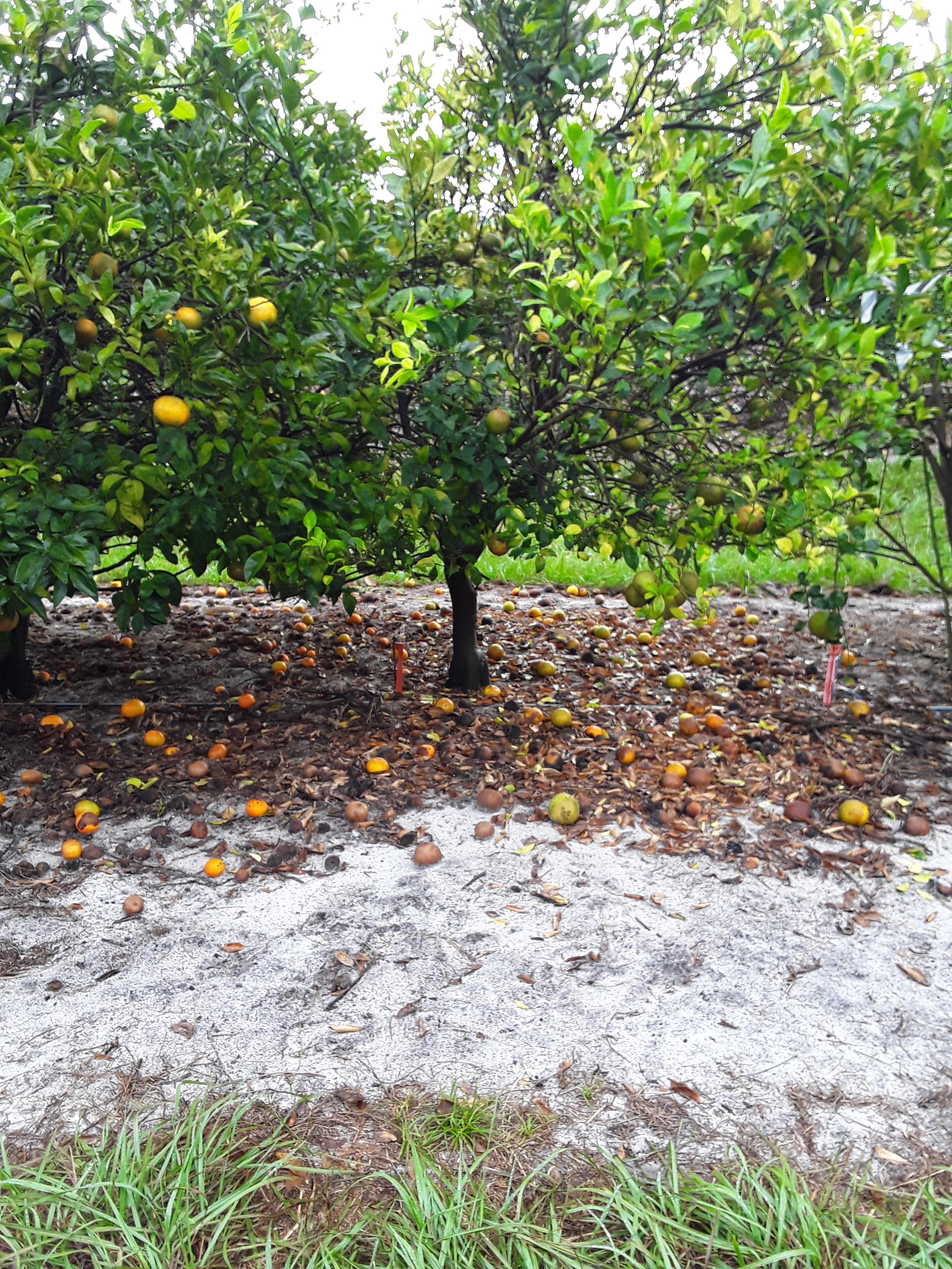fruit_on_ground: (149, 392, 192, 430), (242, 292, 282, 331), (148, 310, 185, 347), (85, 100, 123, 135), (84, 248, 122, 283), (806, 607, 844, 641), (693, 472, 730, 506), (68, 314, 101, 349), (731, 502, 767, 534), (171, 301, 205, 334), (483, 406, 513, 436), (658, 577, 687, 608), (632, 569, 661, 598), (476, 225, 506, 253), (676, 568, 703, 598), (449, 237, 477, 265), (0, 601, 21, 635), (530, 322, 556, 348), (485, 530, 511, 556), (616, 430, 642, 454), (628, 466, 653, 489), (599, 404, 625, 425), (632, 414, 657, 434), (226, 559, 247, 580)
fruit_on_tree: (266, 1147, 309, 1190), (547, 792, 582, 825), (837, 796, 872, 827), (783, 798, 814, 824), (902, 813, 933, 839), (413, 841, 443, 867), (475, 787, 504, 810), (343, 799, 369, 824), (75, 809, 102, 833), (119, 696, 146, 720), (841, 767, 867, 791), (74, 799, 101, 822), (687, 766, 712, 789), (548, 706, 573, 729), (122, 893, 145, 917), (365, 755, 391, 776), (682, 696, 710, 715), (60, 837, 83, 860), (245, 796, 269, 818), (821, 760, 846, 781), (882, 778, 908, 798), (677, 714, 700, 736), (473, 818, 496, 840), (38, 712, 66, 730), (846, 697, 870, 718), (82, 841, 107, 861), (203, 856, 225, 878), (614, 743, 637, 764), (186, 757, 209, 778), (664, 670, 688, 690), (532, 658, 557, 677), (143, 728, 166, 748), (662, 766, 686, 785), (688, 648, 712, 667), (19, 766, 43, 785), (456, 708, 478, 728), (793, 747, 815, 767), (665, 759, 688, 778), (434, 694, 457, 713), (425, 703, 449, 721), (584, 724, 608, 741), (523, 705, 544, 724), (207, 741, 228, 760), (413, 741, 435, 759), (683, 798, 703, 817), (150, 823, 172, 840), (838, 649, 857, 668), (474, 743, 494, 761), (236, 691, 256, 709), (656, 808, 677, 825), (436, 740, 457, 757), (703, 712, 724, 729), (694, 614, 716, 630), (275, 839, 297, 855), (406, 793, 425, 811), (592, 623, 611, 641), (191, 820, 210, 838), (486, 641, 505, 659), (92, 598, 112, 615), (74, 762, 94, 779), (481, 682, 501, 699), (286, 817, 304, 835), (210, 773, 230, 789), (636, 629, 655, 645), (258, 638, 276, 654), (300, 763, 319, 778), (733, 654, 752, 669), (270, 657, 289, 672), (392, 645, 409, 661), (189, 801, 206, 817), (234, 867, 251, 883), (35, 667, 52, 683), (737, 676, 755, 691), (752, 653, 770, 668), (117, 634, 135, 649), (714, 724, 733, 738), (194, 625, 214, 638), (543, 751, 560, 766), (742, 632, 759, 647), (15, 785, 33, 799), (754, 675, 772, 689), (346, 610, 364, 624), (579, 648, 595, 663), (744, 612, 760, 627), (98, 795, 115, 809), (205, 645, 222, 659), (108, 577, 126, 590), (163, 744, 179, 758), (565, 637, 581, 651), (733, 603, 749, 617), (551, 608, 566, 622), (501, 598, 516, 612), (527, 605, 542, 619), (292, 602, 308, 615), (300, 653, 316, 666), (335, 632, 351, 645), (402, 575, 416, 589), (334, 644, 349, 657), (423, 599, 438, 612), (424, 618, 439, 631), (214, 584, 229, 597), (317, 657, 333, 669), (553, 635, 567, 648), (590, 595, 605, 607), (622, 631, 637, 643), (0, 787, 9, 806), (410, 608, 423, 621), (536, 596, 550, 608), (293, 621, 307, 633), (297, 645, 311, 657), (576, 585, 590, 597), (526, 586, 541, 597), (439, 606, 452, 618), (254, 584, 267, 596), (565, 582, 578, 594), (301, 614, 314, 626), (214, 683, 226, 695), (378, 634, 391, 645), (510, 585, 523, 596), (364, 624, 376, 635), (431, 586, 443, 596)
